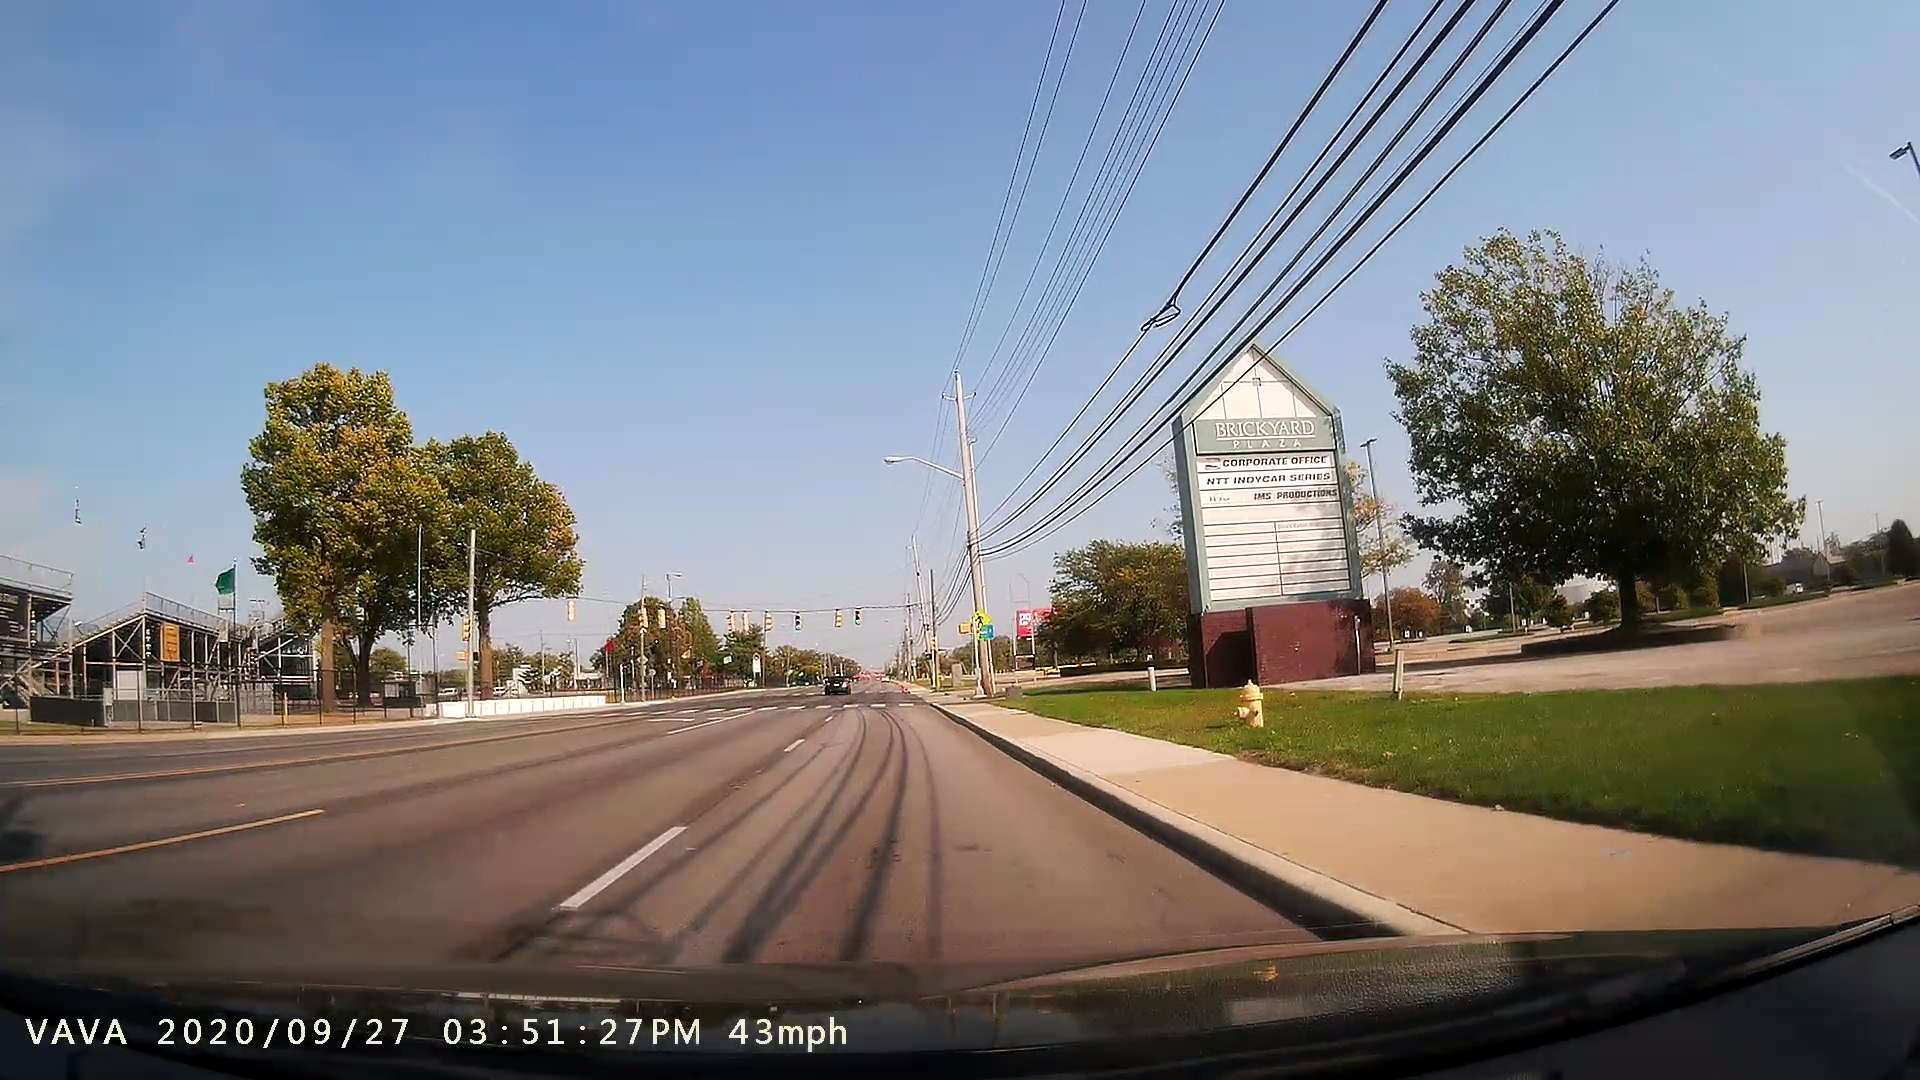fire_hydrant: (1218, 662, 1283, 748)
